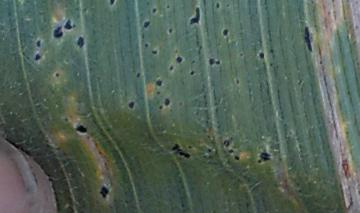tarspot: (302, 24, 314, 51), (171, 143, 191, 159), (189, 6, 202, 26), (52, 24, 64, 38), (64, 19, 76, 30), (75, 124, 88, 134), (260, 151, 271, 162), (100, 187, 109, 197), (222, 27, 230, 38), (163, 96, 171, 107), (142, 20, 151, 29), (77, 36, 84, 47), (34, 53, 42, 61), (175, 55, 183, 63), (222, 138, 230, 146), (128, 101, 135, 110), (208, 57, 215, 66), (151, 7, 158, 15), (155, 80, 163, 87), (258, 51, 265, 59), (135, 71, 142, 78), (36, 40, 42, 48), (109, 1, 116, 7), (167, 28, 174, 34), (215, 2, 221, 9), (168, 64, 174, 71), (158, 103, 164, 110), (227, 148, 234, 154), (234, 154, 240, 161), (54, 72, 60, 78), (186, 143, 192, 149), (206, 147, 212, 153), (216, 59, 222, 65), (256, 158, 262, 164), (297, 188, 303, 194), (97, 149, 103, 155), (156, 89, 161, 96), (235, 78, 240, 85), (64, 117, 69, 123), (152, 50, 158, 55), (165, 5, 171, 10), (190, 70, 195, 76), (239, 51, 244, 57), (226, 2, 231, 8), (144, 43, 149, 48), (269, 48, 274, 53)
